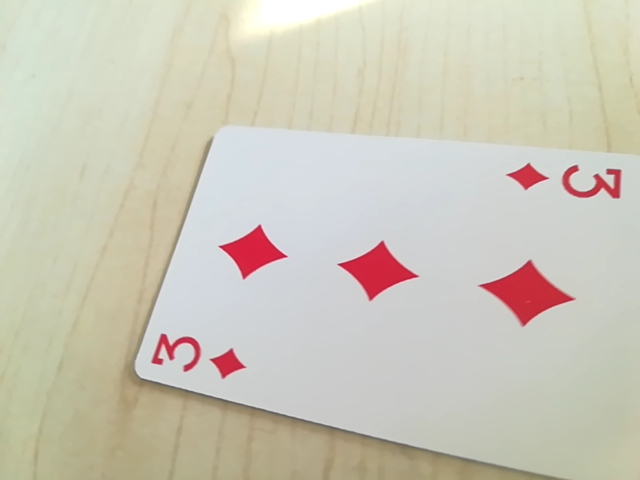fk 3: (145, 324, 257, 383), (505, 159, 630, 206)
